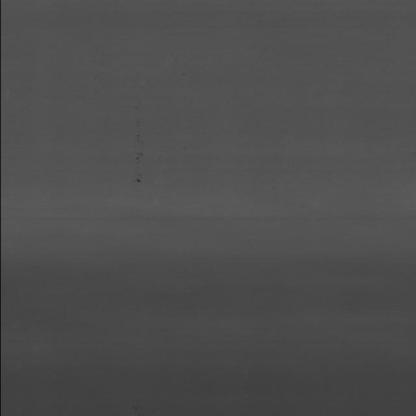inclusion: (124, 175, 148, 186), (132, 150, 147, 166)
